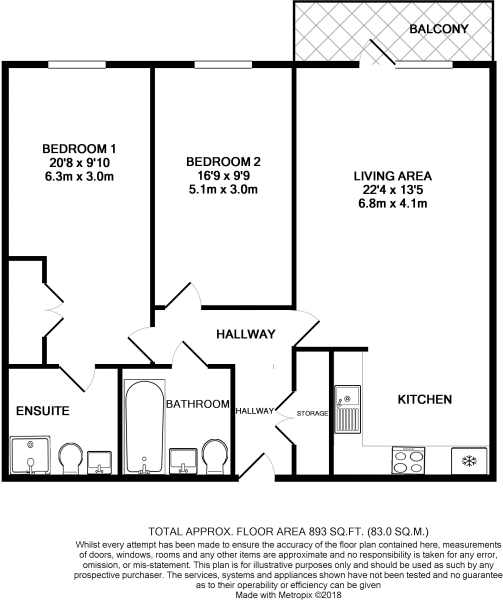GrossArea: (147, 522, 429, 540)
